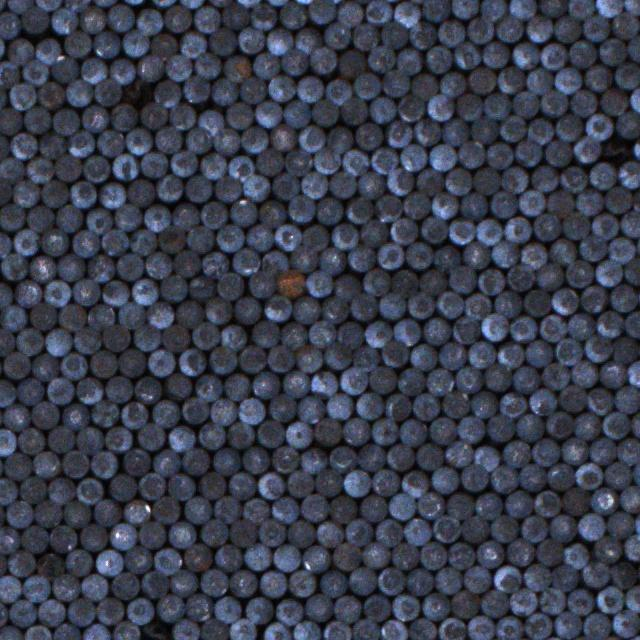tool: (186, 592, 214, 620), (382, 69, 410, 97), (367, 364, 395, 392), (522, 564, 550, 592), (304, 593, 332, 621), (140, 569, 168, 597), (333, 541, 361, 569), (390, 592, 418, 620), (604, 184, 632, 212), (208, 345, 236, 373), (593, 535, 621, 563), (510, 588, 538, 616), (184, 542, 212, 570), (448, 266, 476, 294), (21, 5, 49, 33), (194, 373, 222, 401), (148, 347, 176, 375), (484, 142, 512, 170), (278, 0, 306, 28), (612, 10, 640, 38), (52, 572, 80, 600), (610, 283, 638, 311), (390, 268, 418, 296), (366, 44, 394, 72), (544, 138, 572, 166), (170, 202, 198, 230), (546, 188, 574, 216), (275, 270, 303, 298), (118, 347, 145, 376), (480, 313, 508, 340), (152, 398, 179, 426), (125, 546, 152, 574), (468, 341, 495, 369), (101, 324, 128, 352), (314, 468, 342, 495), (286, 195, 314, 222), (32, 450, 59, 478), (381, 340, 408, 368), (480, 590, 507, 618), (438, 342, 465, 370), (444, 440, 472, 467), (412, 393, 439, 421), (377, 568, 405, 595), (292, 297, 320, 324), (433, 515, 461, 542), (272, 545, 300, 572), (559, 438, 586, 466), (368, 97, 396, 124), (588, 162, 615, 190), (241, 445, 268, 473), (409, 342, 436, 370), (62, 499, 89, 527), (516, 414, 543, 442), (362, 542, 390, 569), (399, 418, 426, 446), (528, 388, 556, 415), (128, 228, 156, 255), (256, 148, 283, 176), (238, 345, 266, 372), (589, 438, 616, 466), (358, 443, 386, 470), (213, 496, 240, 524), (72, 327, 100, 354), (233, 296, 260, 324), (454, 364, 481, 392), (198, 470, 225, 498), (450, 589, 477, 617), (142, 203, 170, 230), (467, 66, 494, 94), (349, 292, 376, 320), (96, 597, 124, 624), (603, 461, 630, 489), (174, 301, 201, 329), (139, 104, 167, 131), (59, 304, 86, 332), (605, 511, 633, 538), (574, 134, 601, 162), (356, 170, 383, 198), (258, 200, 286, 227), (474, 166, 501, 194), (613, 610, 640, 638), (156, 126, 183, 154), (534, 264, 562, 291), (597, 39, 625, 66), (169, 570, 196, 598), (470, 390, 497, 418), (423, 318, 450, 346), (470, 117, 498, 144), (162, 324, 189, 352), (258, 419, 285, 447), (187, 226, 214, 254), (606, 235, 634, 262), (580, 284, 607, 312), (270, 171, 298, 198), (8, 132, 35, 160), (359, 218, 386, 246), (498, 66, 526, 93), (224, 54, 251, 82), (67, 598, 94, 626), (106, 5, 134, 32), (554, 337, 581, 365), (274, 599, 302, 626), (561, 212, 588, 240), (608, 561, 636, 588), (590, 212, 617, 240), (558, 165, 586, 192), (374, 194, 401, 222), (222, 1, 249, 29), (73, 231, 100, 258), (215, 223, 242, 250), (490, 515, 517, 542), (38, 599, 65, 626), (20, 524, 47, 551), (15, 327, 42, 354), (323, 342, 350, 369), (575, 462, 602, 489), (565, 261, 592, 288), (20, 477, 47, 504), (269, 393, 296, 420), (31, 402, 58, 429), (475, 493, 502, 520), (464, 565, 491, 592), (145, 252, 172, 279), (173, 249, 200, 276), (416, 493, 443, 520), (112, 571, 139, 598), (477, 539, 504, 566), (94, 498, 121, 525), (376, 242, 403, 269), (65, 80, 92, 107), (63, 450, 90, 477), (271, 446, 298, 473), (329, 446, 356, 473), (596, 311, 623, 338), (315, 519, 342, 546), (237, 397, 264, 424), (154, 496, 181, 523), (253, 321, 280, 348), (168, 472, 195, 499), (313, 417, 340, 444), (550, 287, 577, 314), (287, 469, 314, 496), (460, 464, 487, 491), (285, 149, 312, 176), (201, 518, 228, 545), (503, 441, 530, 468), (297, 75, 324, 102), (209, 28, 236, 55), (105, 427, 132, 454), (484, 362, 511, 389), (34, 499, 61, 526), (548, 237, 575, 264), (355, 392, 382, 419), (584, 335, 611, 362), (6, 499, 33, 526), (365, 321, 392, 348), (409, 21, 436, 48), (297, 395, 324, 422), (163, 4, 190, 31), (462, 515, 489, 542), (94, 79, 121, 106), (133, 377, 160, 404), (582, 613, 609, 640), (455, 94, 482, 121), (167, 426, 194, 453), (504, 215, 531, 242), (494, 566, 521, 593), (415, 443, 442, 470), (31, 352, 58, 379), (561, 488, 588, 515), (184, 175, 211, 202), (550, 515, 577, 542), (582, 559, 609, 586), (401, 469, 428, 496), (483, 93, 510, 120), (96, 129, 123, 156), (233, 249, 260, 276), (344, 196, 371, 223), (8, 37, 35, 64), (37, 131, 64, 158), (500, 392, 527, 419), (203, 297, 230, 324), (92, 399, 119, 426), (554, 16, 581, 43), (177, 347, 204, 374), (289, 245, 316, 272), (178, 31, 205, 58), (459, 192, 486, 219), (555, 115, 582, 142), (194, 6, 221, 33), (529, 164, 556, 191), (493, 291, 520, 318), (512, 41, 539, 68), (496, 14, 523, 41), (338, 49, 365, 76), (434, 244, 461, 271), (614, 384, 640, 412), (302, 494, 328, 522), (293, 346, 321, 372), (7, 551, 35, 577), (578, 512, 604, 540), (182, 448, 208, 476), (200, 568, 228, 594), (48, 425, 76, 451), (506, 489, 532, 517), (430, 416, 456, 444), (403, 191, 429, 219), (374, 520, 402, 546), (426, 44, 452, 72), (308, 46, 336, 72), (46, 328, 72, 356), (490, 464, 516, 492), (525, 340, 551, 368), (531, 439, 557, 467), (232, 568, 258, 596), (343, 468, 369, 496), (512, 364, 538, 392), (309, 320, 335, 348), (56, 204, 82, 232), (274, 224, 300, 252), (260, 518, 286, 546), (430, 144, 456, 172), (532, 488, 558, 516), (422, 592, 448, 620), (594, 261, 622, 287), (229, 472, 255, 500), (290, 568, 316, 596), (81, 572, 107, 600), (596, 585, 622, 613), (45, 278, 71, 306), (92, 450, 118, 478), (558, 383, 584, 411), (48, 476, 74, 504), (381, 21, 407, 49), (258, 472, 284, 500), (88, 304, 114, 332), (248, 596, 274, 624), (283, 100, 309, 128), (386, 168, 412, 196), (109, 102, 135, 130), (231, 518, 257, 546), (282, 370, 308, 398), (182, 76, 208, 104), (352, 22, 378, 50), (486, 414, 512, 442), (576, 188, 602, 216), (110, 474, 136, 502), (600, 90, 628, 116), (2, 404, 28, 432), (586, 388, 612, 416), (42, 226, 68, 254), (53, 108, 79, 136), (159, 226, 185, 254), (412, 118, 438, 146), (568, 91, 596, 117), (214, 127, 240, 155), (418, 268, 446, 294), (79, 6, 105, 34), (186, 126, 212, 154), (216, 271, 242, 299), (227, 422, 253, 450), (35, 38, 61, 66), (337, 322, 363, 350), (68, 130, 94, 158), (202, 250, 228, 278), (522, 290, 550, 316), (310, 370, 336, 398), (554, 612, 580, 639), (437, 290, 464, 316), (508, 537, 534, 564), (614, 61, 640, 88), (88, 254, 114, 281), (456, 416, 483, 442), (23, 108, 50, 134), (372, 417, 398, 444), (568, 313, 594, 340), (77, 376, 103, 403), (252, 372, 278, 399), (264, 293, 290, 320), (90, 350, 116, 377), (164, 54, 191, 80), (435, 566, 461, 593), (156, 174, 182, 201), (362, 269, 388, 296), (384, 119, 410, 146), (192, 321, 218, 348), (539, 587, 566, 613), (54, 155, 80, 182), (246, 542, 272, 569), (498, 114, 525, 140), (77, 426, 103, 453), (404, 517, 430, 544), (17, 378, 43, 405), (255, 99, 281, 126), (430, 465, 456, 492), (50, 525, 76, 552), (268, 74, 294, 101), (71, 180, 97, 207), (518, 464, 544, 491), (80, 524, 107, 550), (447, 541, 473, 568), (125, 127, 151, 154), (340, 367, 366, 394), (341, 149, 367, 176), (95, 550, 122, 576), (311, 99, 337, 126), (394, 318, 420, 345), (16, 280, 42, 307), (5, 451, 31, 478), (364, 593, 390, 620), (306, 270, 332, 297), (124, 449, 150, 476), (334, 594, 360, 621), (547, 464, 573, 491), (10, 84, 36, 111), (158, 594, 184, 621), (272, 497, 298, 524), (389, 218, 415, 245), (348, 566, 374, 593), (502, 165, 528, 192), (288, 520, 315, 546), (209, 398, 235, 425), (540, 362, 567, 388), (330, 171, 356, 198), (426, 95, 452, 122), (121, 402, 148, 428), (13, 230, 40, 256), (445, 167, 471, 194), (84, 156, 110, 183), (82, 105, 108, 132), (230, 199, 256, 226), (568, 40, 594, 67), (214, 447, 240, 474), (123, 29, 149, 56), (26, 158, 53, 184), (544, 412, 571, 438), (438, 19, 464, 46), (399, 368, 425, 395), (332, 223, 358, 250), (23, 575, 49, 602), (168, 521, 194, 548), (240, 127, 266, 154), (320, 247, 346, 274), (524, 613, 550, 640), (41, 180, 67, 207), (134, 323, 160, 350), (136, 55, 162, 82), (497, 343, 524, 369), (131, 277, 157, 304), (22, 59, 48, 86), (492, 241, 518, 268), (534, 214, 560, 241), (352, 73, 378, 100), (345, 518, 371, 545), (58, 254, 84, 281), (154, 449, 180, 476), (303, 545, 329, 572), (64, 31, 90, 58), (216, 543, 242, 570), (392, 542, 419, 568), (446, 494, 473, 520), (171, 149, 197, 176), (416, 169, 442, 196), (398, 94, 425, 120), (299, 126, 325, 153), (302, 223, 328, 250), (140, 151, 166, 178), (464, 241, 490, 268), (127, 180, 153, 207), (432, 192, 459, 218), (266, 28, 292, 55), (568, 587, 594, 614), (154, 79, 180, 106), (154, 549, 181, 575), (514, 138, 540, 165), (126, 597, 152, 624), (518, 188, 545, 214), (245, 224, 271, 251), (280, 323, 306, 350), (30, 304, 57, 330), (214, 174, 240, 201), (540, 313, 566, 340), (117, 252, 143, 279), (4, 351, 30, 378), (477, 217, 503, 244), (137, 422, 163, 449), (113, 204, 139, 231), (93, 31, 119, 58), (525, 14, 551, 41), (119, 301, 145, 328), (482, 40, 508, 67), (77, 478, 103, 505), (226, 102, 252, 129), (371, 146, 397, 173), (442, 391, 469, 417), (316, 198, 342, 225), (224, 373, 250, 400), (136, 8, 162, 35), (322, 297, 348, 324), (586, 113, 613, 139), (478, 267, 504, 294), (165, 374, 191, 401), (151, 34, 178, 60), (452, 316, 478, 343), (98, 181, 124, 208), (489, 190, 515, 217), (1, 254, 27, 281), (37, 83, 63, 110), (582, 15, 609, 41), (62, 404, 88, 431), (319, 571, 345, 598), (28, 205, 54, 232), (293, 28, 320, 54), (334, 273, 360, 300), (598, 362, 625, 388), (520, 241, 546, 268), (35, 554, 62, 580), (579, 235, 606, 261), (198, 108, 225, 134), (454, 40, 479, 68), (61, 352, 86, 380), (331, 496, 356, 524), (15, 180, 40, 208), (312, 148, 338, 174), (139, 472, 165, 498), (109, 523, 135, 549), (540, 91, 566, 117), (104, 376, 130, 402), (160, 275, 186, 301), (74, 278, 100, 304), (400, 144, 426, 170), (512, 91, 538, 117), (520, 516, 546, 542), (46, 378, 72, 404), (537, 539, 563, 565), (602, 412, 628, 438), (372, 468, 398, 494), (138, 522, 164, 548), (280, 50, 306, 76), (407, 292, 433, 318), (302, 172, 328, 198), (101, 230, 127, 256), (360, 495, 386, 521), (248, 272, 274, 298), (10, 600, 36, 626), (286, 422, 312, 448), (388, 493, 414, 519), (101, 280, 127, 306), (352, 346, 378, 372), (200, 202, 226, 228), (590, 488, 616, 514), (355, 124, 381, 150), (238, 76, 264, 102), (408, 242, 434, 268), (327, 394, 353, 420), (269, 124, 295, 150), (181, 396, 207, 422), (146, 303, 172, 329), (551, 564, 577, 590), (508, 266, 534, 292), (64, 550, 90, 576), (336, 0, 362, 26), (268, 346, 294, 372), (574, 412, 600, 438), (379, 292, 405, 318), (509, 315, 535, 341), (238, 27, 264, 53), (326, 78, 352, 104), (464, 292, 490, 318), (243, 498, 269, 524), (215, 596, 241, 622), (198, 424, 224, 450), (393, 1, 419, 27), (442, 118, 468, 144), (81, 57, 107, 83), (254, 52, 280, 78), (584, 64, 610, 90), (526, 69, 552, 95), (554, 67, 580, 93), (324, 23, 350, 49), (526, 118, 552, 144), (108, 58, 134, 84), (466, 16, 492, 42), (348, 245, 374, 271), (169, 102, 195, 128), (52, 56, 78, 82), (86, 206, 112, 232), (124, 498, 150, 524), (342, 417, 367, 444), (186, 497, 211, 524), (428, 369, 453, 396), (341, 97, 366, 124), (457, 140, 482, 167), (407, 569, 432, 596), (387, 443, 412, 470), (29, 256, 54, 283), (261, 571, 286, 598), (300, 447, 327, 472), (52, 6, 77, 33), (420, 541, 445, 568), (220, 324, 247, 349), (613, 338, 640, 363), (111, 154, 136, 181), (18, 427, 43, 453), (366, 0, 392, 25), (252, 4, 277, 30), (448, 218, 474, 243), (384, 393, 409, 419), (421, 216, 446, 242), (201, 152, 226, 178), (195, 52, 220, 78), (440, 72, 465, 98), (242, 174, 267, 200), (541, 42, 566, 68), (412, 75, 437, 101), (211, 78, 236, 104), (563, 542, 588, 568), (187, 276, 213, 301), (474, 446, 499, 472), (229, 156, 255, 181), (496, 616, 523, 640), (468, 616, 495, 640), (616, 112, 640, 139), (0, 305, 24, 332), (398, 48, 422, 75), (570, 361, 595, 386), (0, 204, 24, 230), (328, 126, 352, 152), (262, 252, 288, 276), (308, 0, 335, 23), (617, 439, 640, 466), (618, 162, 640, 190), (408, 618, 435, 640), (231, 618, 258, 640), (438, 618, 465, 640), (201, 619, 229, 640), (0, 158, 22, 184), (619, 485, 640, 512), (171, 619, 198, 640), (351, 619, 378, 640), (0, 107, 21, 134), (0, 10, 20, 38), (321, 620, 349, 640), (380, 619, 406, 640), (0, 574, 20, 601), (0, 61, 20, 88), (421, 0, 448, 20), (620, 209, 640, 236), (480, 0, 506, 20), (509, 0, 536, 19), (293, 621, 320, 640), (111, 621, 138, 640), (450, 0, 478, 18), (0, 526, 18, 553), (263, 622, 290, 640), (569, 0, 595, 18), (623, 533, 640, 560), (83, 623, 110, 640), (623, 258, 640, 285), (537, 0, 565, 16), (0, 478, 16, 505), (595, 0, 622, 16), (0, 378, 15, 406), (0, 427, 15, 455), (54, 624, 80, 640), (625, 586, 640, 613), (625, 309, 640, 336), (24, 625, 51, 640), (0, 328, 13, 356), (627, 34, 640, 62), (0, 177, 13, 204), (6, 0, 32, 13), (627, 360, 640, 386), (0, 281, 12, 308), (0, 625, 21, 640), (63, 0, 90, 11), (629, 87, 640, 114), (0, 233, 11, 259), (34, 0, 62, 10), (630, 411, 640, 438), (632, 185, 640, 214), (624, 0, 640, 14), (0, 134, 8, 161), (632, 460, 640, 487), (179, 0, 204, 8), (234, 0, 262, 7), (0, 601, 7, 627), (633, 136, 640, 162), (91, 0, 119, 6), (151, 0, 179, 6), (205, 0, 232, 6), (0, 86, 6, 112), (634, 512, 640, 538), (0, 551, 5, 579), (0, 34, 5, 62), (0, 500, 5, 528), (264, 0, 291, 5)
tool_b: (601, 135, 632, 163), (122, 80, 151, 109), (141, 621, 171, 640)
